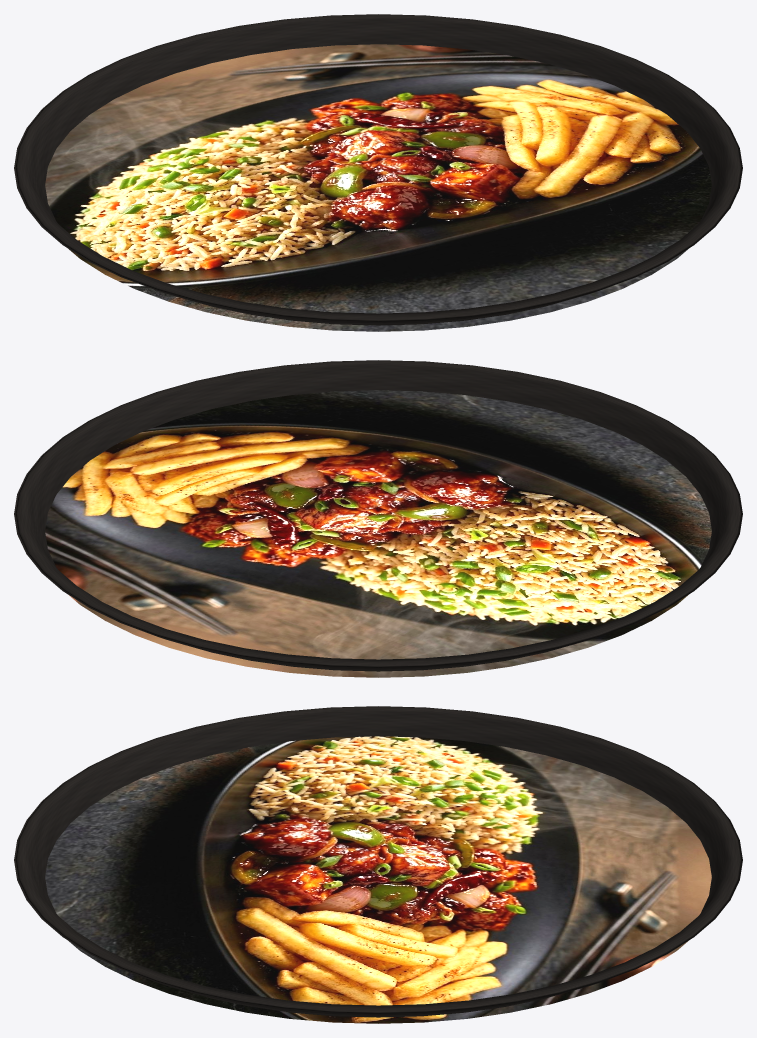
Rendered from chinese-combo.glb.
3 renders of one model, top to bottom at view 1: azimuth 30°, elevation 25°; view 2: azimuth 150°, elevation 25°; view 3: azimuth 270°, elevation 25°, orthographic.
Visible parts, largest first — view 1: FoodMound, StonewareVessel; view 2: FoodMound, StonewareVessel; view 3: FoodMound, StonewareVessel.
Boxes of the visible parts, x1=… form: FoodMound: x1=45, y1=44, x2=711, y2=331; StonewareVessel: x1=14, y1=14, x2=742, y2=325; FoodMound: x1=45, y1=390, x2=711, y2=677; StonewareVessel: x1=14, y1=360, x2=742, y2=671; FoodMound: x1=45, y1=736, x2=711, y2=1023; StonewareVessel: x1=14, y1=706, x2=742, y2=1017.
Bounding box in the file's own units: 0.3 × 0.0225 × 0.3.
Materials: 2 (2 with a texture image).
